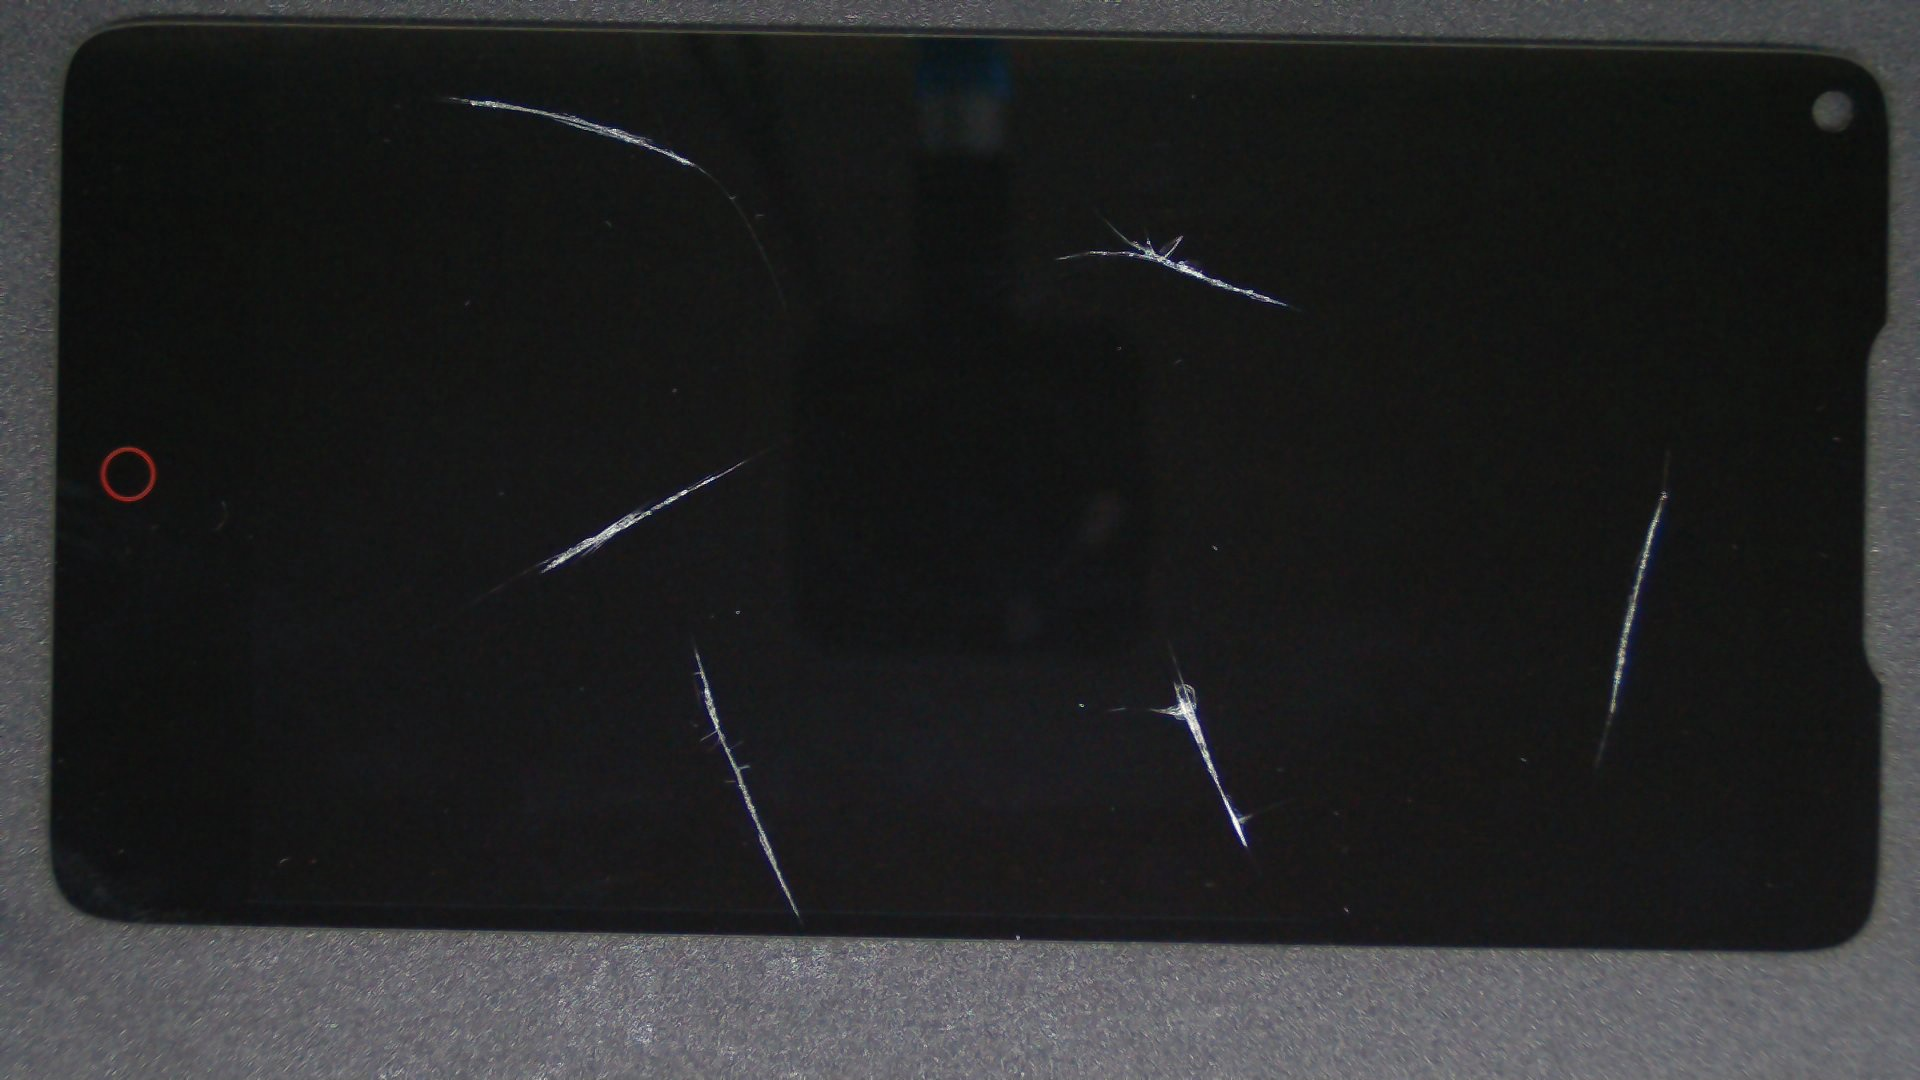oil: (588, 328, 1763, 988), (832, 244, 1920, 735), (348, 323, 1043, 972), (375, 228, 1121, 687), (554, 109, 1659, 331), (224, 47, 673, 145)
